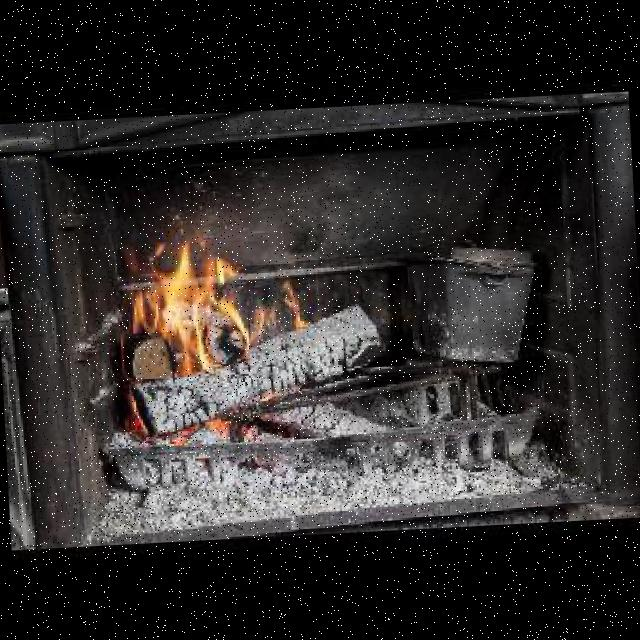fire: (116, 238, 250, 380)
